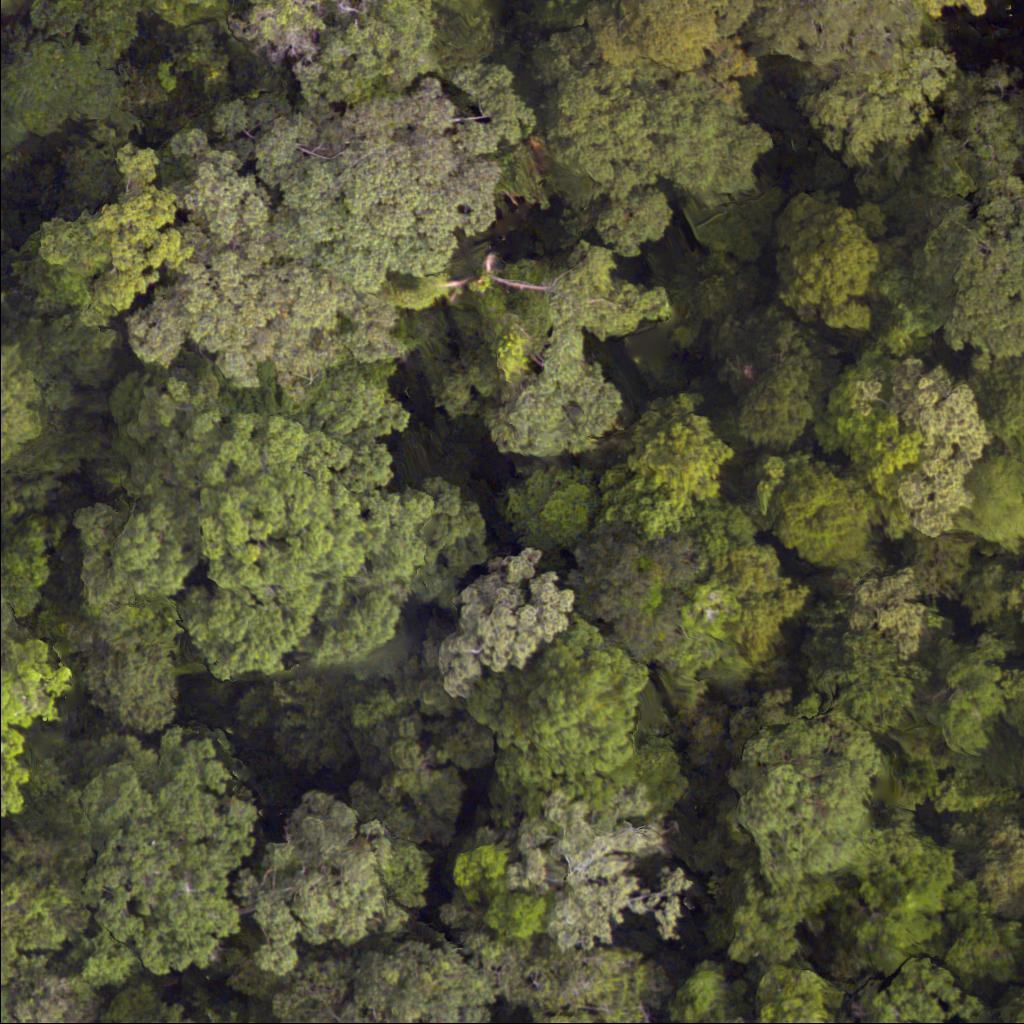crown: (127, 52, 532, 400), (145, 378, 491, 687), (47, 716, 258, 979), (485, 251, 669, 464), (233, 790, 401, 973), (497, 792, 691, 948), (738, 702, 882, 891), (42, 138, 196, 313), (630, 522, 799, 674), (854, 355, 990, 535), (434, 542, 577, 701), (911, 173, 1023, 372), (270, 944, 493, 1023), (610, 399, 732, 542), (515, 647, 649, 776), (801, 52, 954, 163), (776, 182, 887, 328), (720, 314, 829, 450), (576, 0, 760, 76), (0, 633, 78, 811), (0, 812, 94, 959), (0, 36, 123, 147), (762, 450, 880, 565), (812, 618, 926, 734), (926, 64, 1023, 193), (379, 711, 468, 851), (761, 0, 926, 66), (703, 954, 845, 1023), (854, 952, 985, 1023), (512, 463, 604, 564), (948, 807, 1023, 921), (0, 348, 56, 478), (856, 568, 937, 655), (970, 455, 1023, 557), (922, 0, 1018, 24), (0, 937, 18, 1023), (0, 593, 16, 666), (540, 1012, 597, 1023), (1022, 763, 1023, 792)
